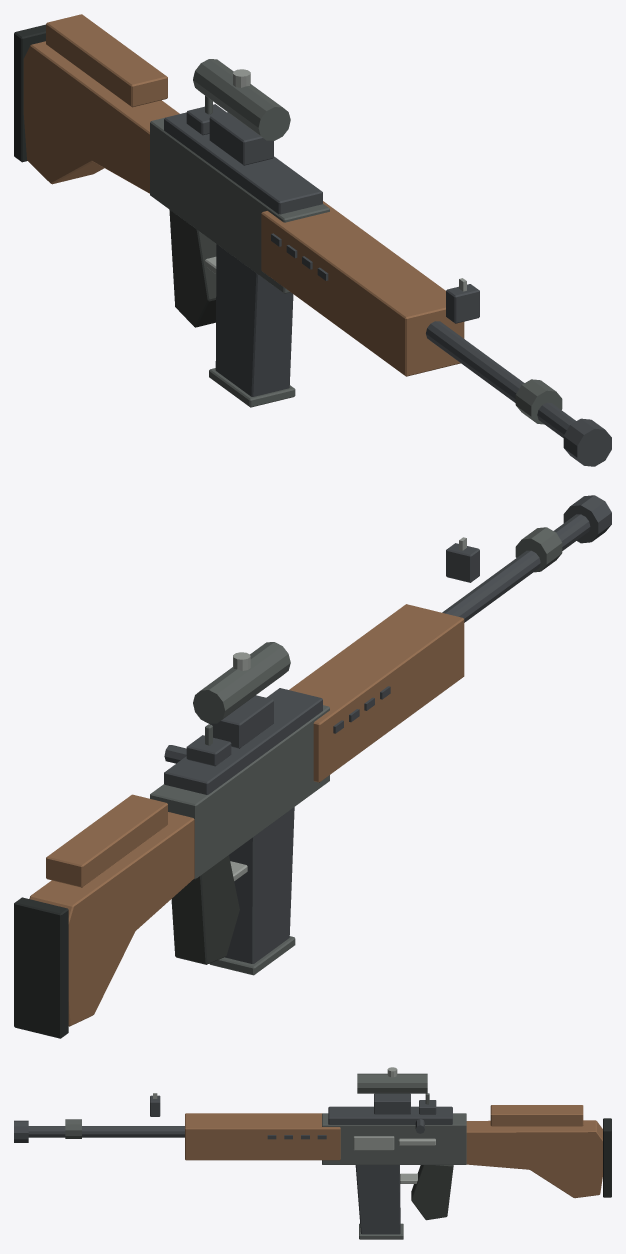
Rendered from svd-hunter.glb.
The picture shows the model from 3 angles, top to bottom: view 1: azimuth 30°, elevation 25°; view 2: azimuth 150°, elevation 25°; view 3: azimuth 270°, elevation 25°; orthographic projection. The views are drawn at different scales.
Parts seen in each view (by area): view 1: SVD_HUNTER_Firearm; view 2: SVD_HUNTER_Firearm; view 3: SVD_HUNTER_Firearm.
Part boxes in pixels (x1=…): SVD_HUNTER_Firearm: x1=14, y1=14, x2=611, y2=466; SVD_HUNTER_Firearm: x1=14, y1=495, x2=611, y2=1038; SVD_HUNTER_Firearm: x1=14, y1=1067, x2=611, y2=1239.
Size of the model in its own units: 0.1033 by 0.3822 by 1.26.
